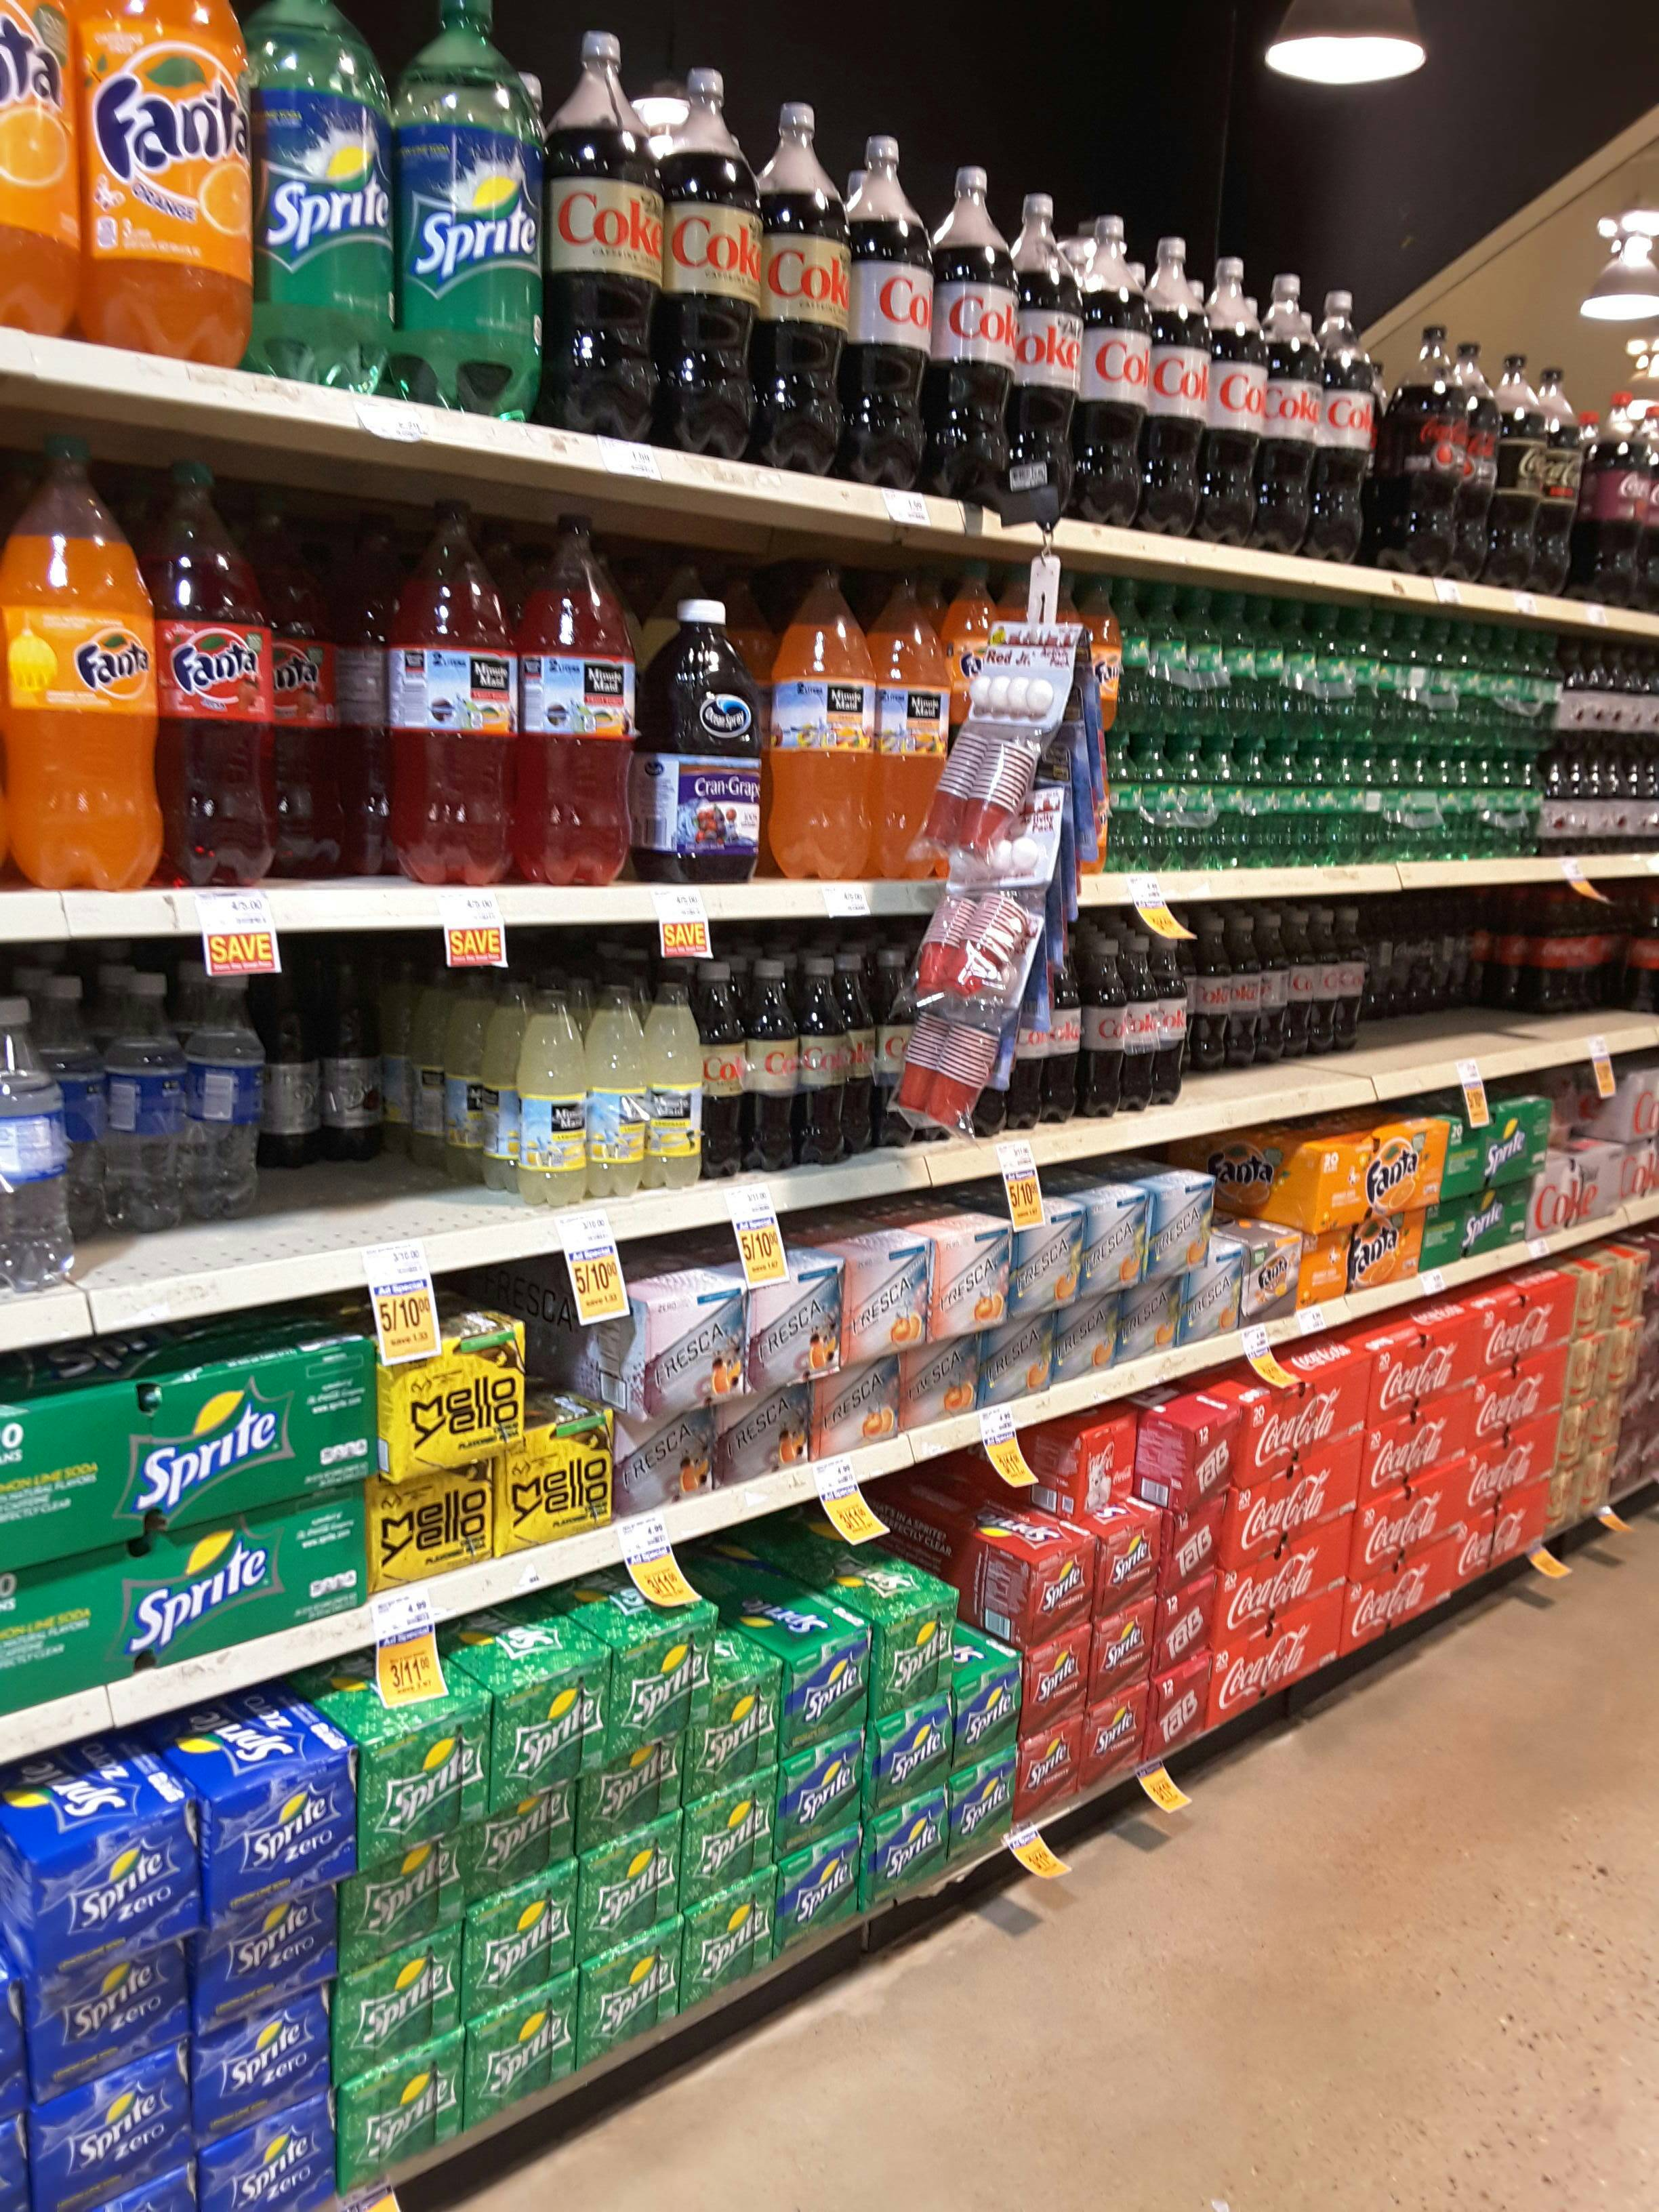Misplacement: (261, 975, 530, 1249), (223, 484, 403, 885), (68, 965, 261, 1312), (1183, 892, 1371, 1115), (1370, 899, 1495, 1071), (1554, 900, 1647, 1047)
